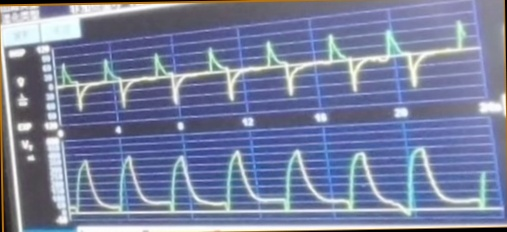Flow: (59, 20, 473, 111)
Leakage Volume: (70, 144, 494, 221)
